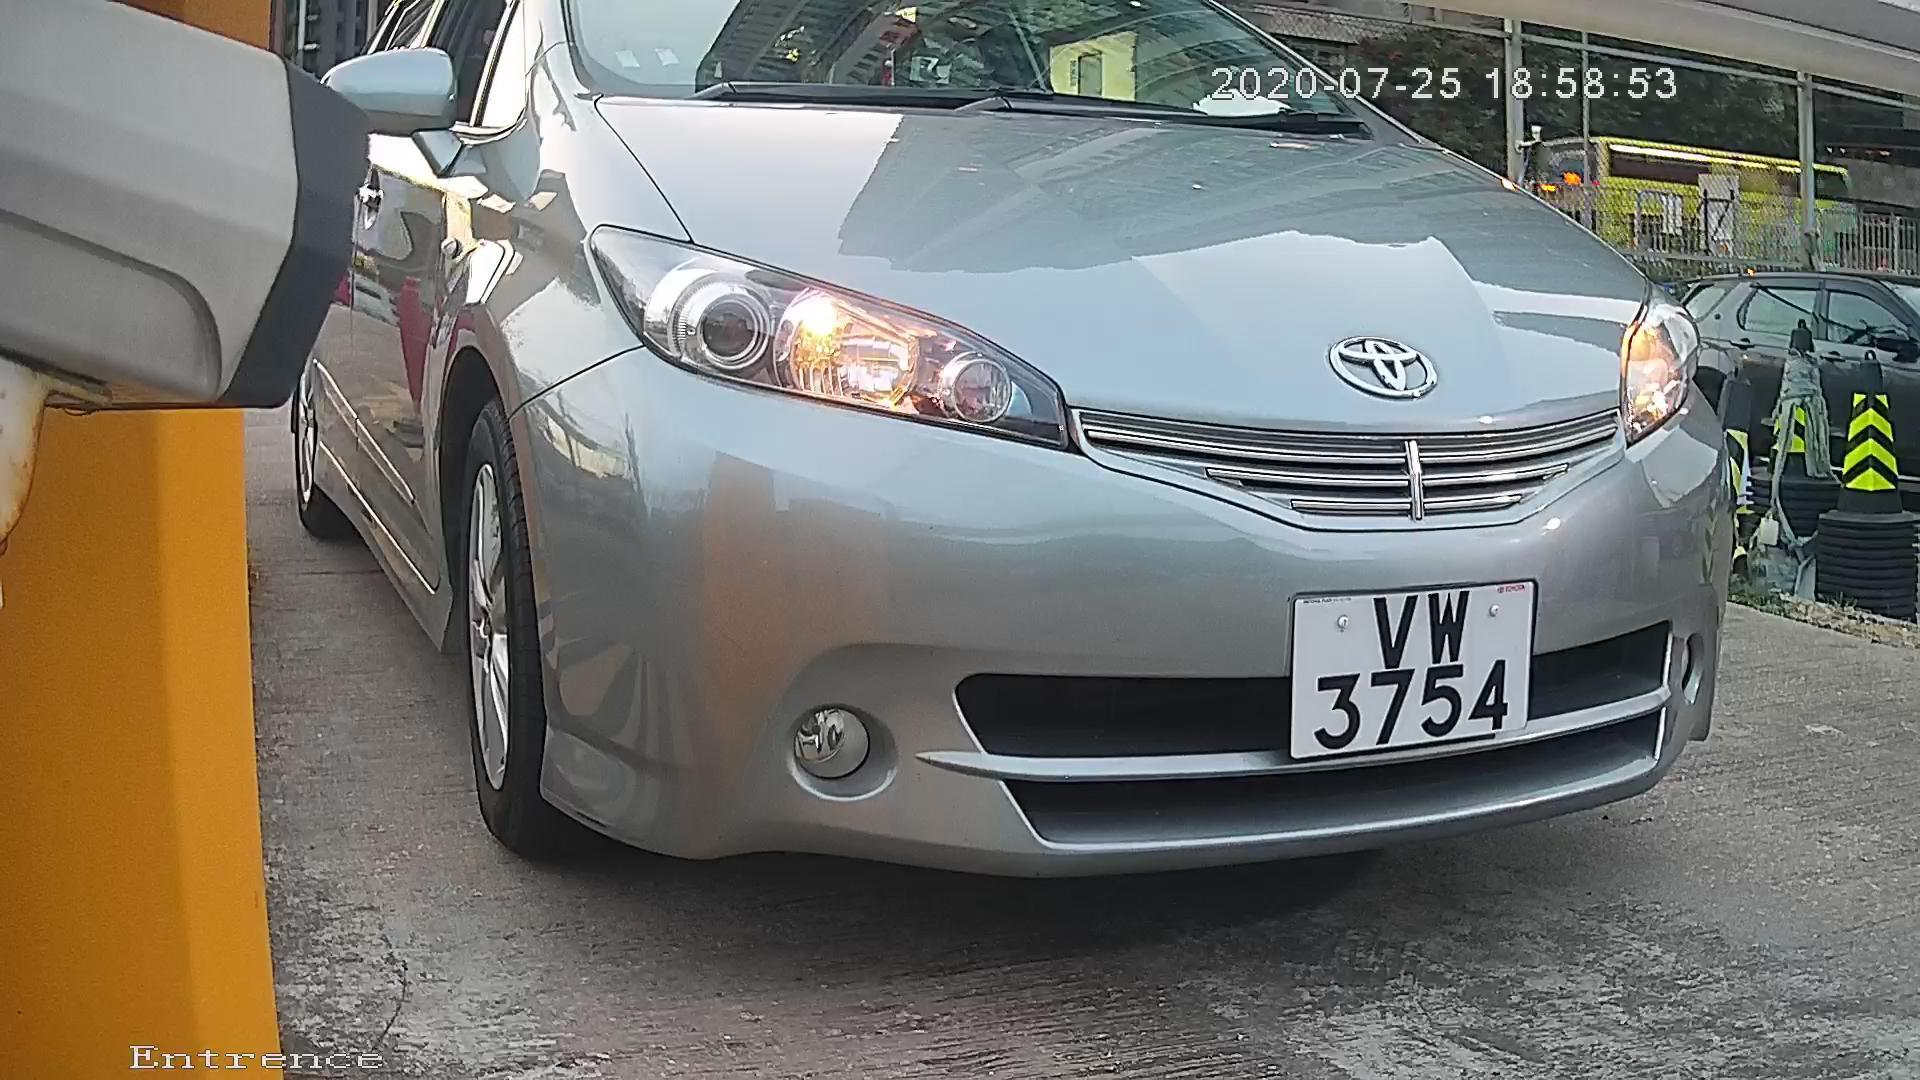privatecar: (335, 40, 1792, 920)
